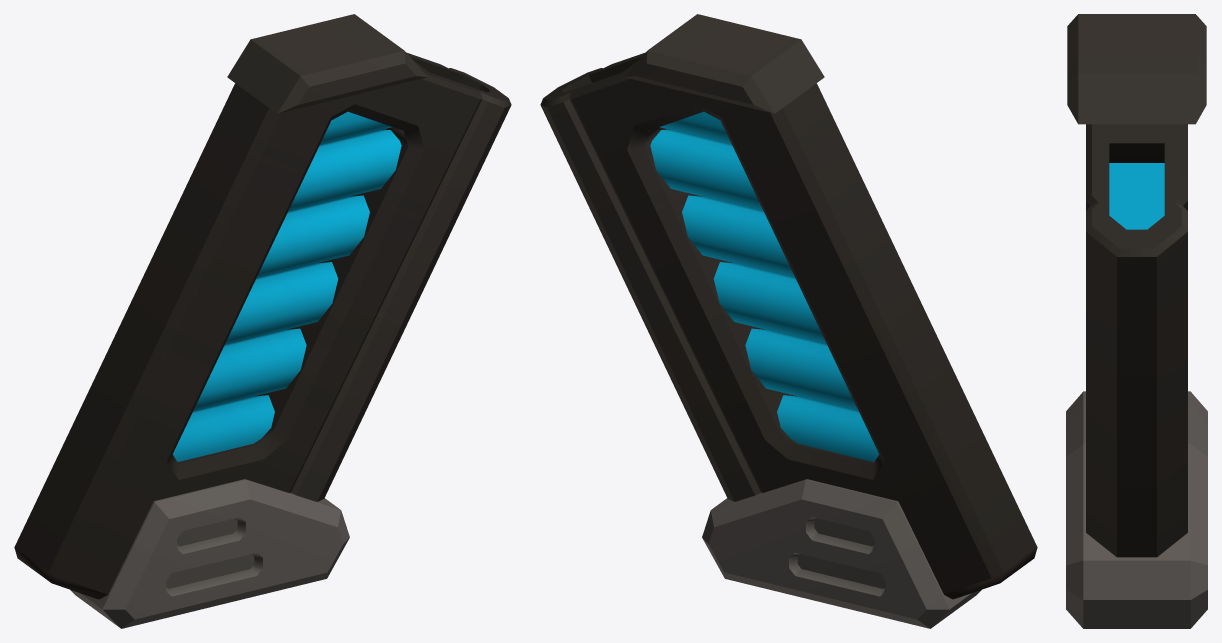
Rendered from SMG10_MagazineExtended.fbx.
The picture shows the model from 3 angles, left to right: view 1: azimuth 30°, elevation 25°; view 2: azimuth 150°, elevation 25°; view 3: azimuth 270°, elevation 25°; orthographic projection. The views are drawn at different scales.
Visible parts, largest first — view 1: SMG10_MagazineExtended; view 2: SMG10_MagazineExtended; view 3: SMG10_MagazineExtended.
Part boxes in pixels (x1,y1,x2,y2): SMG10_MagazineExtended: (14, 14, 511, 628); SMG10_MagazineExtended: (540, 14, 1037, 628); SMG10_MagazineExtended: (1066, 14, 1207, 628).
Size of the model in its own units: 12.14 by 12.57 by 2.7.
